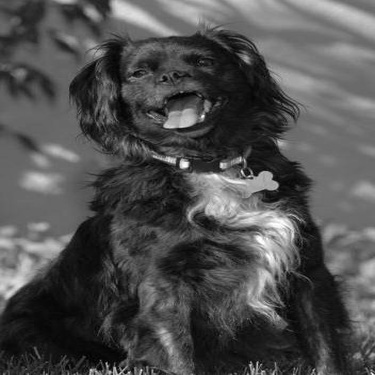dog: (1, 21, 371, 371)
